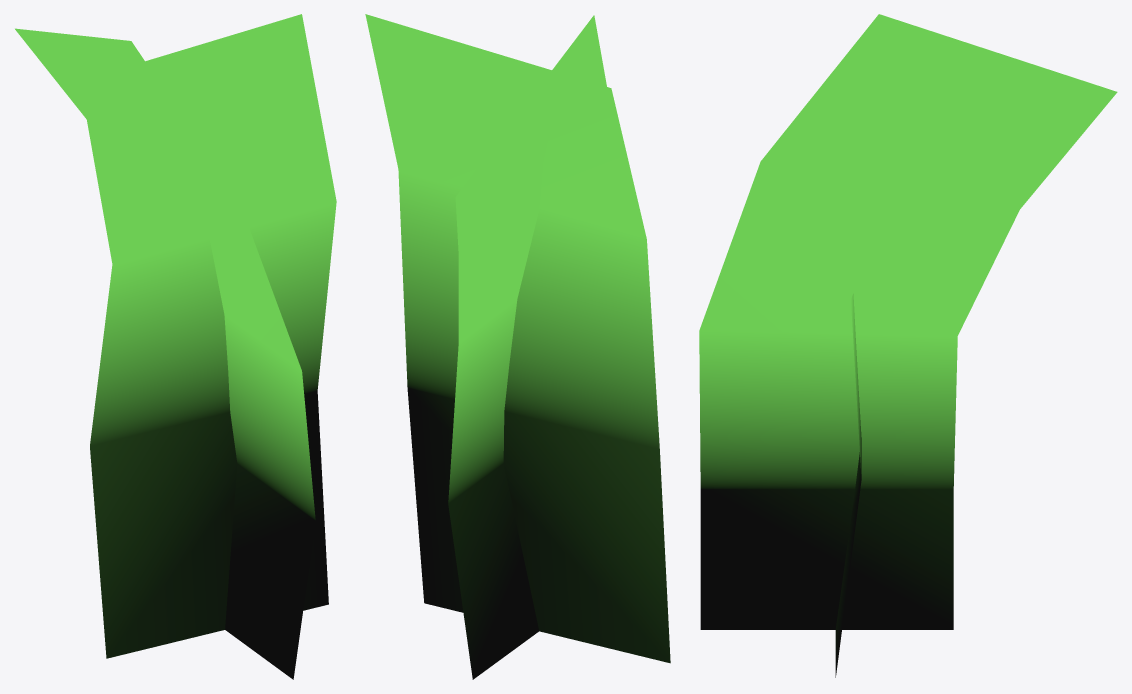
Rendered from Foliage_Grass_Weeds_Weed1V2.glb.
The picture shows the model from 3 angles, left to right: view 1: azimuth 30°, elevation 25°; view 2: azimuth 150°, elevation 25°; view 3: azimuth 270°, elevation 25°; orthographic projection. The views are drawn at different scales.
Visible parts, largest first — view 1: GrassBoard0.004; view 2: GrassBoard0.004; view 3: GrassBoard0.004.
Boxes of the visible parts, x1,y1,x2,y2 form: GrassBoard0.004: (15,14,336,679); GrassBoard0.004: (365,14,670,679); GrassBoard0.004: (699,14,1117,677).
Bounding box in the file's own units: 0.0706 × 0.165 × 0.1076.
